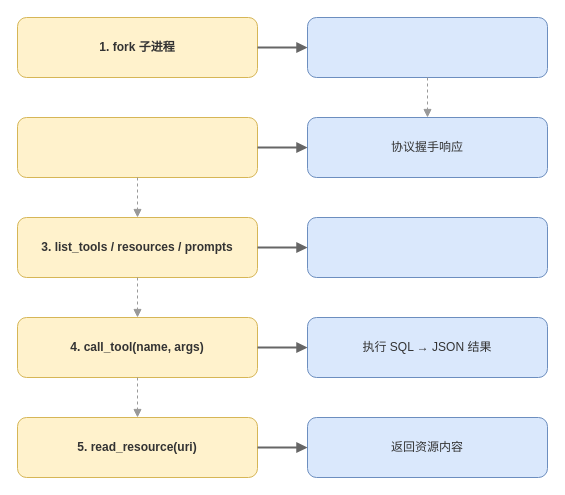
This 565x495 diagram has some shape labels left out. Each missing label, with the centre of its shape:
2. session.initialize(): (x=137, y=147)
返回能力清单: (x=427, y=247)
进入 mcp.run() 监听: (x=427, y=47)
